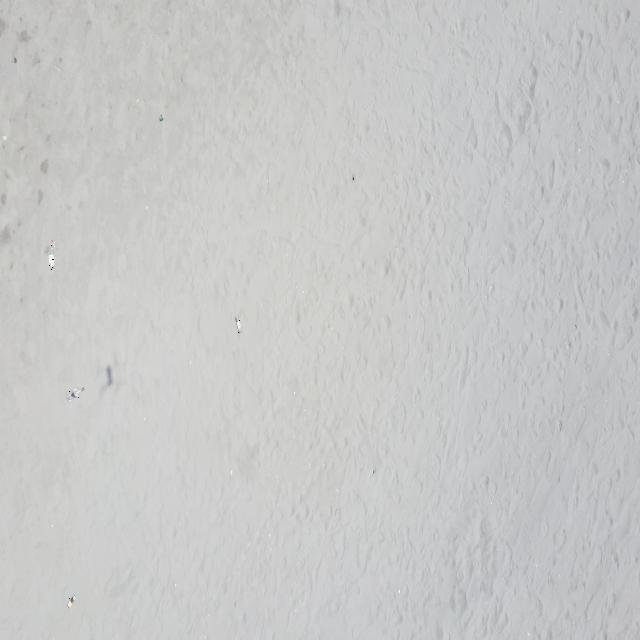glass: (66, 387, 85, 401), (48, 240, 55, 272), (235, 315, 242, 334), (68, 594, 76, 608), (160, 114, 164, 122)
